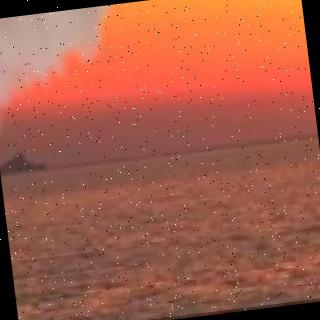smoke: (0, 0, 226, 143)
